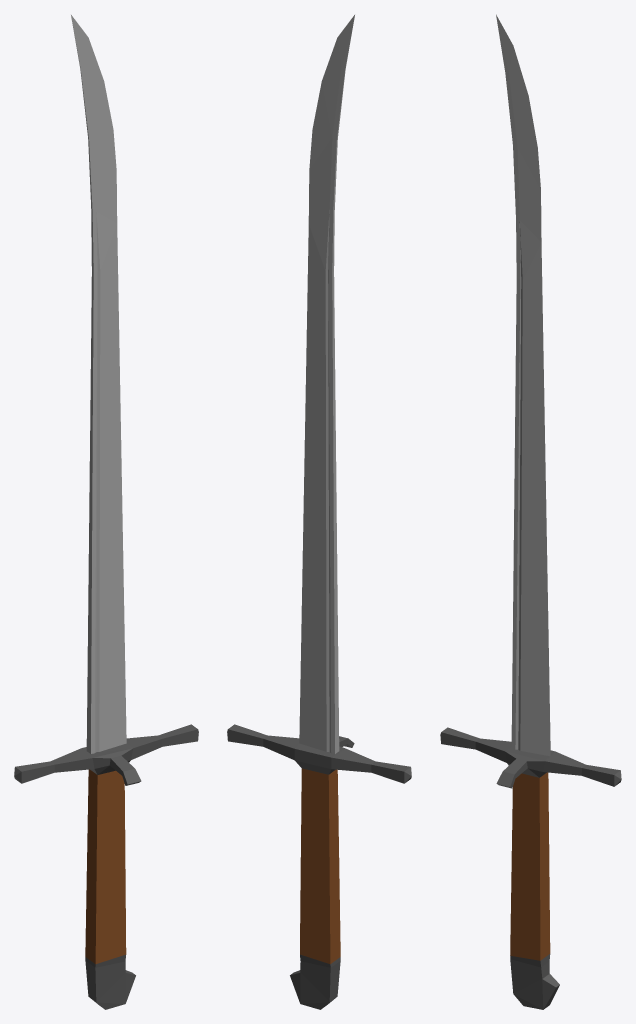
Rendered from Low Poly Weapon Pack - by Kickin It Studios.fbx_Kriegmesser.glb.
3 views of the same model, side by side, from view 1: azimuth 30°, elevation 25°; view 2: azimuth 150°, elevation 25°; view 3: azimuth 330°, elevation 25° (orthographic).
Parts seen in each view (by area): view 1: Kriegmesser; view 2: Kriegmesser; view 3: Kriegmesser.
Boxes of the visible parts, left/top/right/bottom form: Kriegmesser: left=14, top=15, right=198, bottom=1009; Kriegmesser: left=227, top=15, right=411, bottom=1009; Kriegmesser: left=440, top=14, right=621, bottom=1009.
Size of the model in its own units: 0.3237 by 1.68 by 0.1049.
